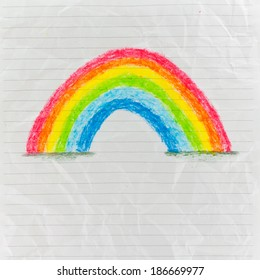rainbow: (25, 45, 237, 159)
